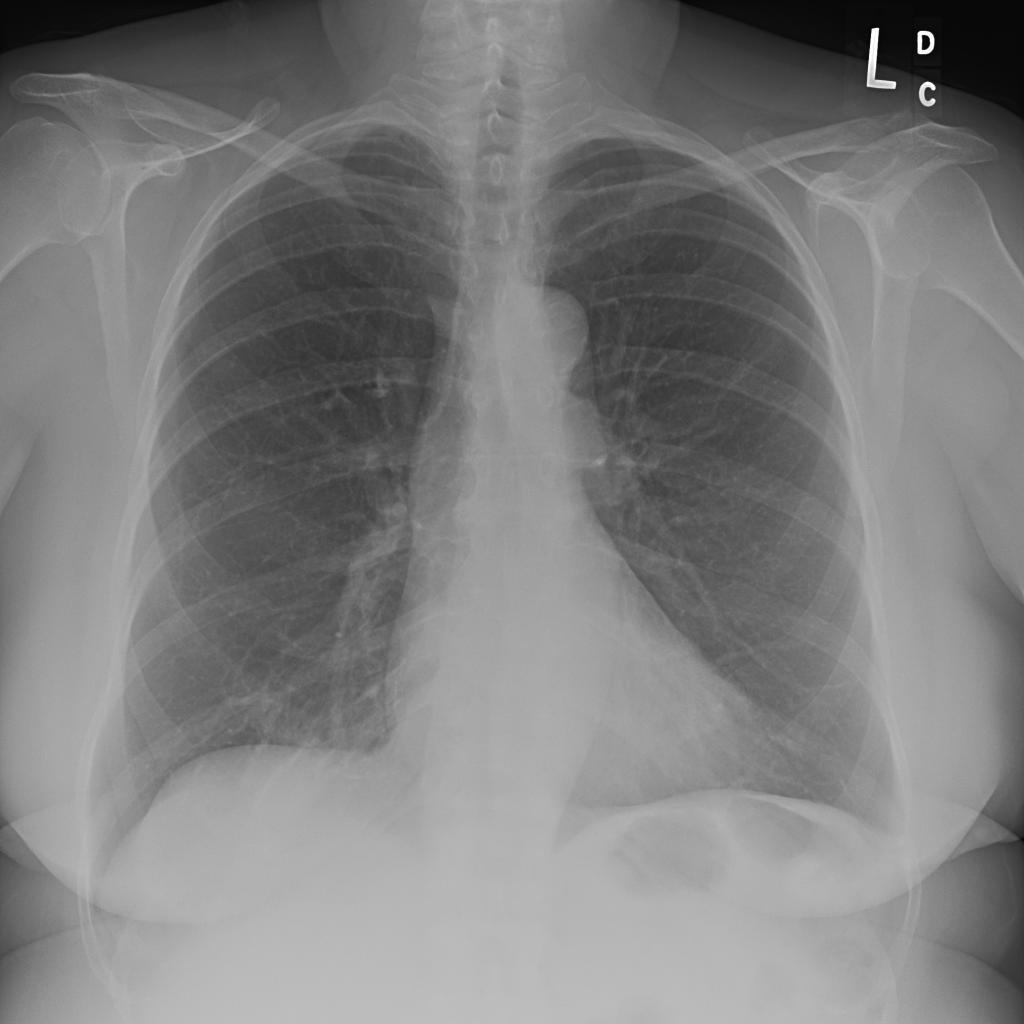Nodule: (117, 344, 147, 376), (220, 80, 233, 97)
